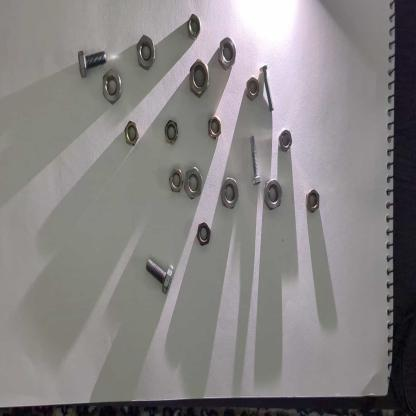Bolts: (145, 253, 175, 300), (75, 46, 112, 81), (244, 128, 264, 189), (259, 62, 276, 115)
NUTS: (136, 31, 158, 73), (190, 58, 212, 100), (101, 67, 124, 107), (264, 176, 286, 214), (219, 33, 238, 76), (184, 165, 207, 200), (304, 186, 325, 220), (222, 175, 239, 215), (168, 164, 184, 198), (207, 112, 223, 145), (163, 117, 180, 145), (196, 219, 213, 247), (244, 74, 260, 101), (124, 121, 141, 146), (187, 12, 203, 38), (277, 129, 294, 153)
